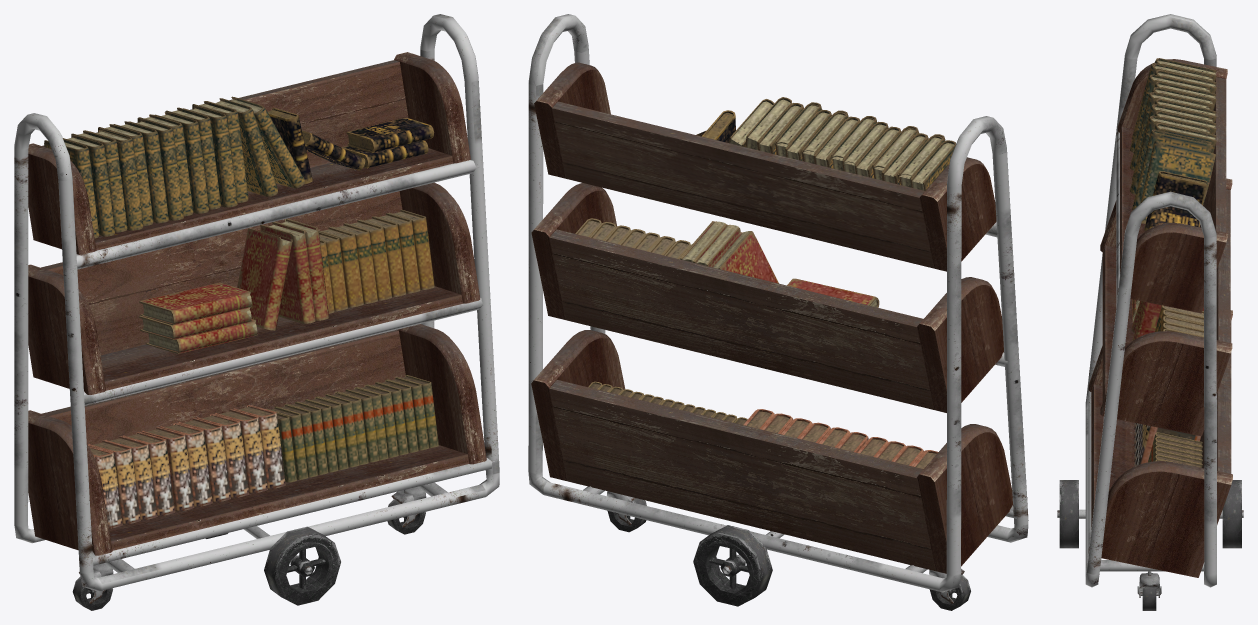
Rendered from sm39_167_librarytrolleyset01a.fbx.
3 views of the same model, side by side, from view 1: azimuth 30°, elevation 25°; view 2: azimuth 150°, elevation 25°; view 3: azimuth 270°, elevation 25° (orthographic). The views are drawn at different scales.
Visible parts, largest first — view 1: LOD_1_Group_0_Sub_2__sm30_171_LibraryTrolley01A_A_Mat, LOD_1_Group_0_Sub_1__sm36_001_BookSet01A_A_Mat, LOD_1_Group_1_Sub_1__sm36_001_BookSet01A_A_Mat; view 2: LOD_1_Group_0_Sub_2__sm30_171_LibraryTrolley01A_A_Mat, LOD_1_Group_0_Sub_1__sm36_001_BookSet01A_A_Mat, LOD_1_Group_1_Sub_1__sm36_001_BookSet01A_A_Mat; view 3: LOD_1_Group_0_Sub_2__sm30_171_LibraryTrolley01A_A_Mat, LOD_1_Group_0_Sub_1__sm36_001_BookSet01A_A_Mat, LOD_1_Group_1_Sub_1__sm36_001_BookSet01A_A_Mat.
Boxes of the visible parts, box(x1,y1,x2,y2) form: LOD_1_Group_0_Sub_2__sm30_171_LibraryTrolley01A_A_Mat: box(14, 14, 499, 610); LOD_1_Group_0_Sub_1__sm36_001_BookSet01A_A_Mat: box(44, 96, 438, 528); LOD_1_Group_1_Sub_1__sm36_001_BookSet01A_A_Mat: box(47, 99, 435, 528); LOD_1_Group_0_Sub_2__sm30_171_LibraryTrolley01A_A_Mat: box(528, 14, 1028, 610); LOD_1_Group_0_Sub_1__sm36_001_BookSet01A_A_Mat: box(575, 97, 955, 468); LOD_1_Group_1_Sub_1__sm36_001_BookSet01A_A_Mat: box(578, 100, 952, 468); LOD_1_Group_0_Sub_2__sm30_171_LibraryTrolley01A_A_Mat: box(1057, 14, 1243, 610); LOD_1_Group_0_Sub_1__sm36_001_BookSet01A_A_Mat: box(1130, 58, 1216, 467); LOD_1_Group_1_Sub_1__sm36_001_BookSet01A_A_Mat: box(1131, 61, 1216, 467).
Size of the model in its own units: 1.49 by 1.66 by 0.6357.
